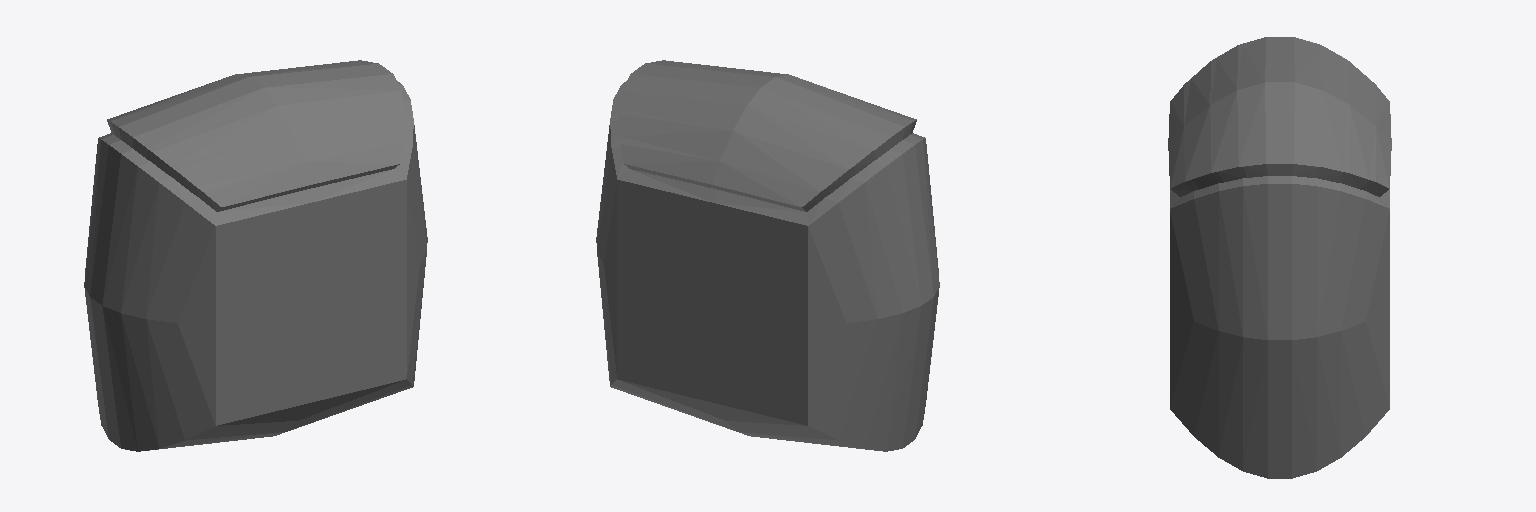
Rendered from Basurero.obj.
The picture shows the model from 3 angles: view 1: azimuth 30°, elevation 25°; view 2: azimuth 150°, elevation 25°; view 3: azimuth 270°, elevation 25°; orthographic projection.
Visible parts, largest first — view 1: subtool6; view 2: subtool6; view 3: subtool6.
Boxes of the visible parts, x1=… form: subtool6: x1=84, y1=60, x2=427, y2=451; subtool6: x1=596, y1=60, x2=939, y2=451; subtool6: x1=1168, y1=37, x2=1391, y2=478.
Size of the model in its own units: 153 by 158 by 92.49.